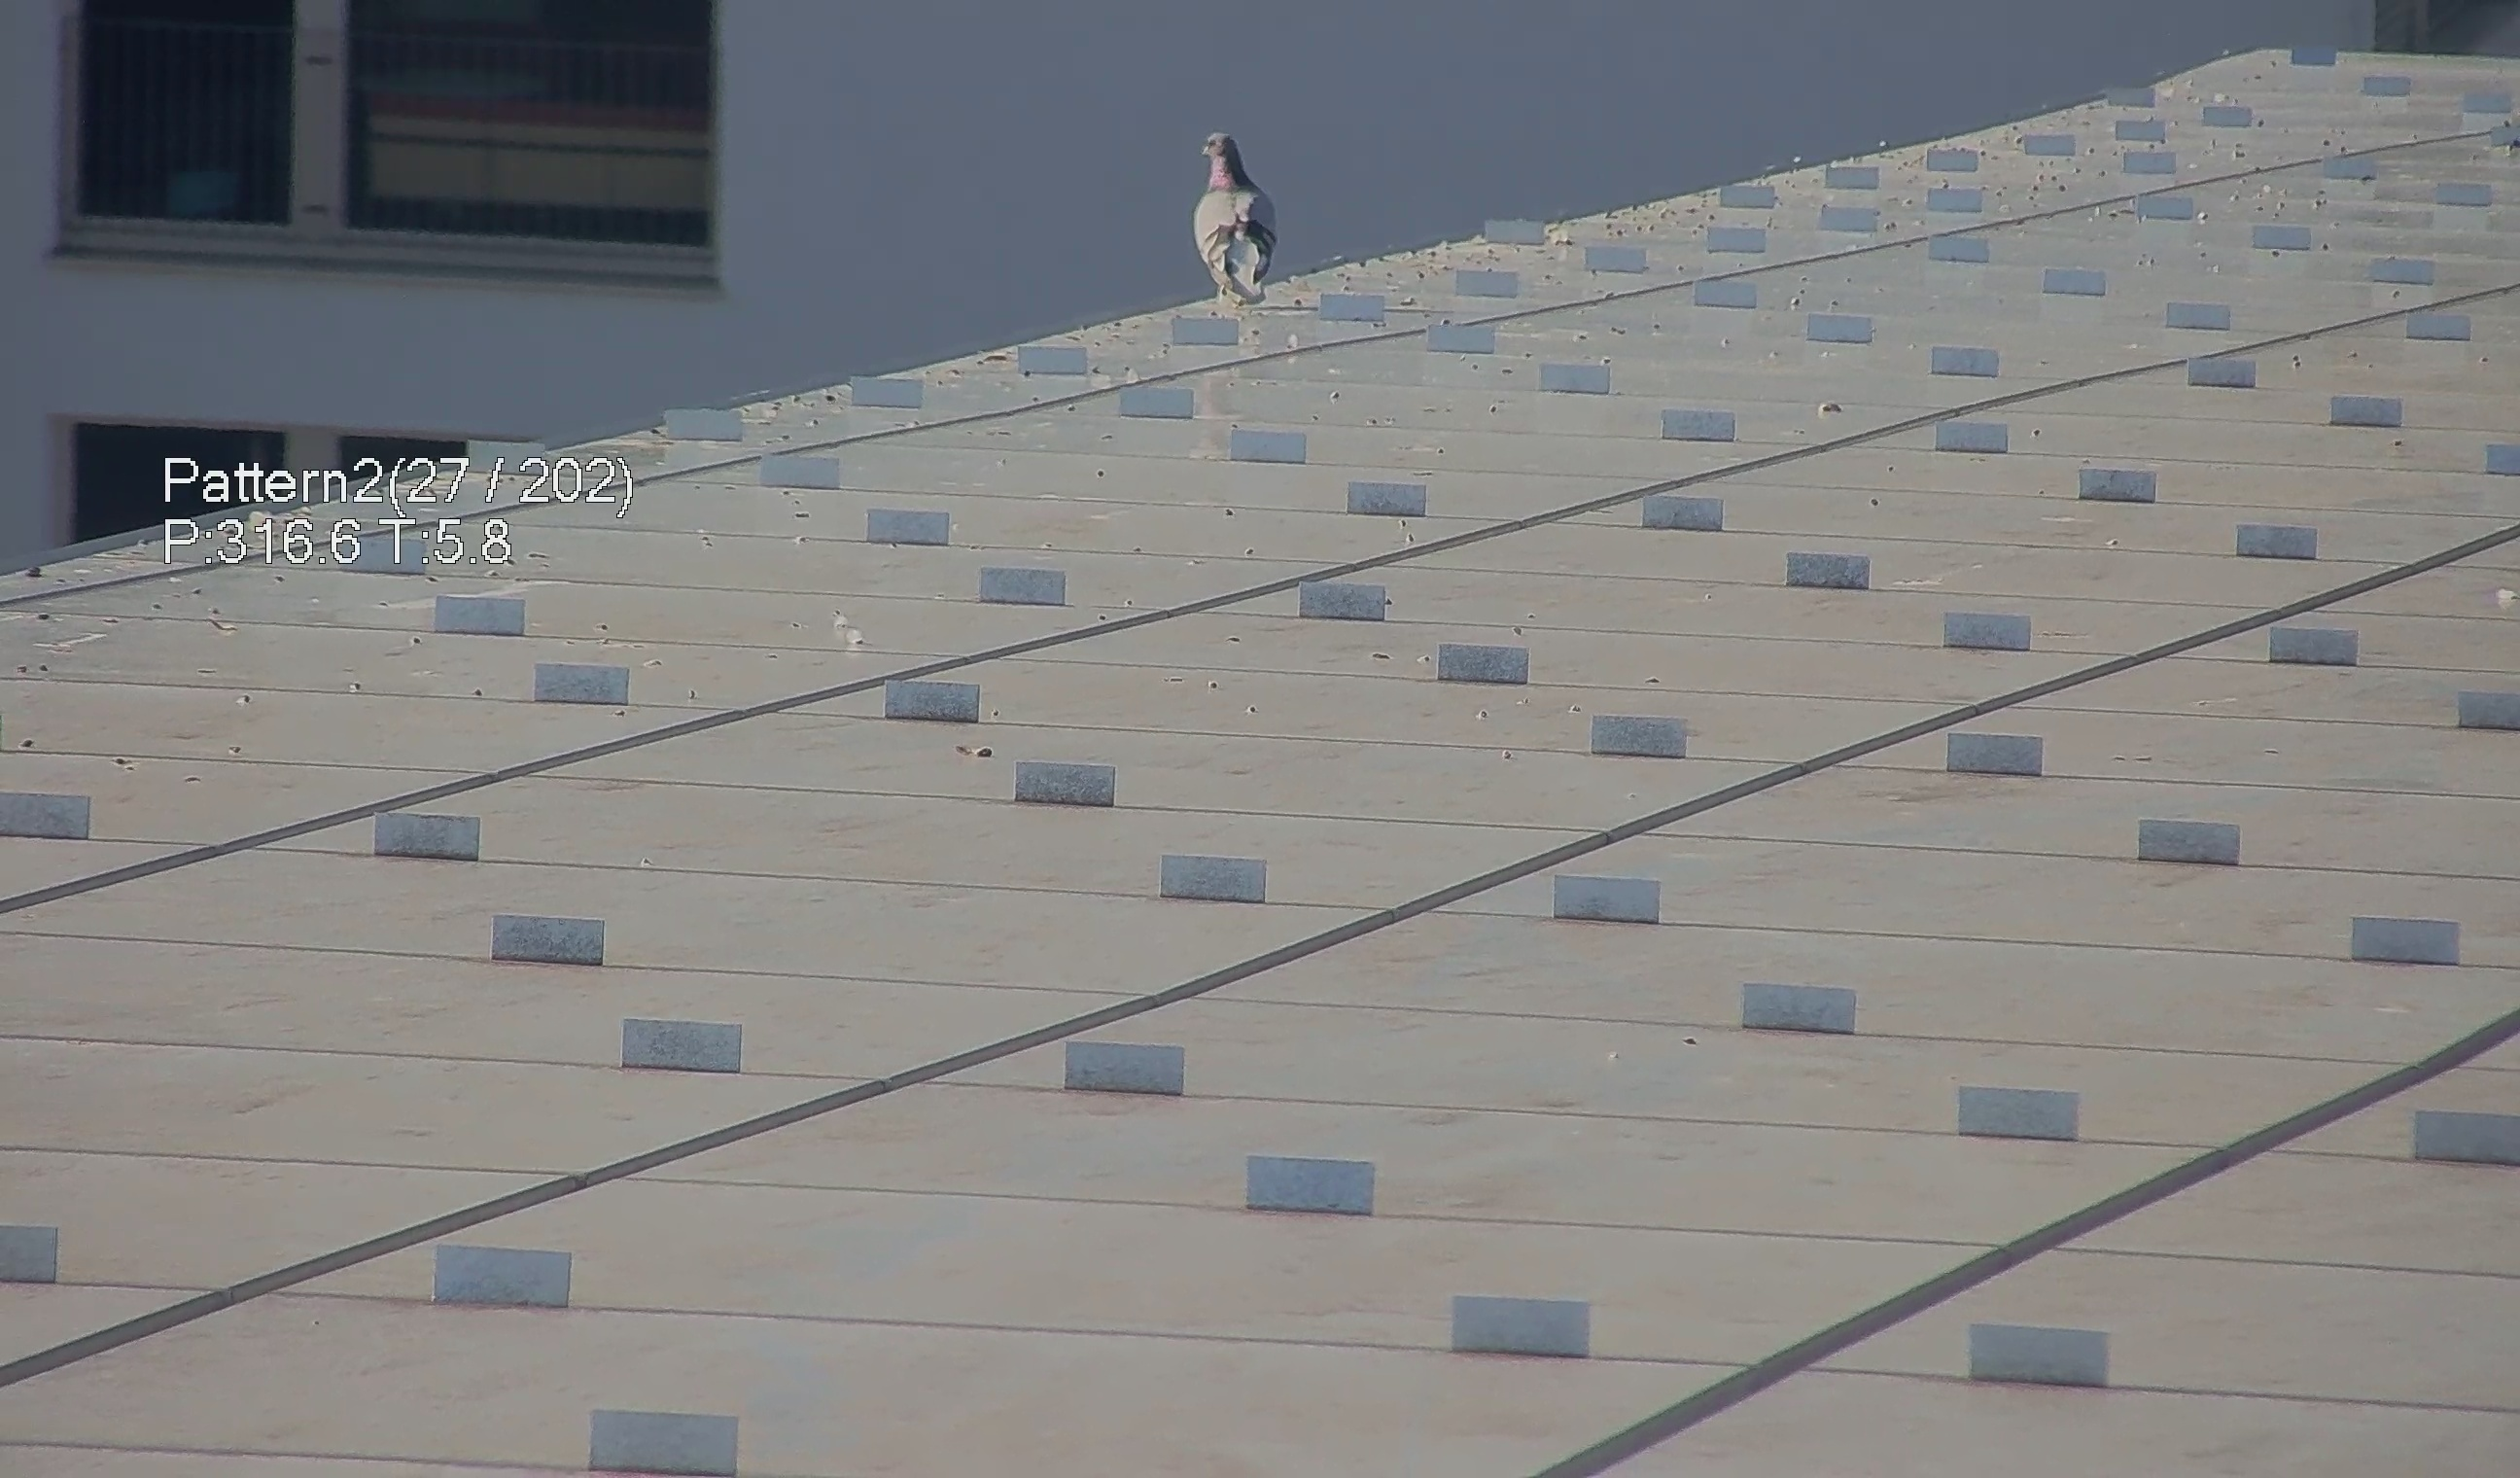Pigeon: (1175, 121, 1280, 308)
